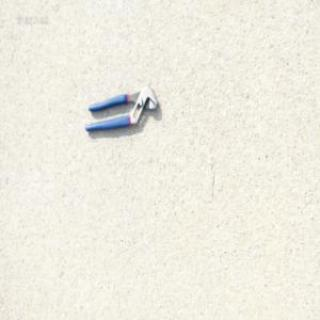Pliertrack_idkeyframe: (83, 83, 158, 133)
